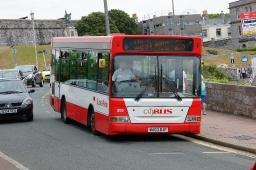person: (112, 59, 142, 84)
